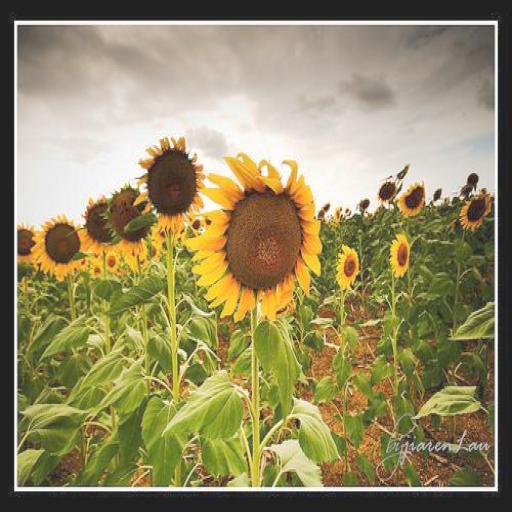sunflower: (188, 151, 322, 323), (136, 136, 205, 234), (32, 212, 83, 280), (458, 190, 492, 226), (336, 244, 359, 289), (397, 181, 427, 213), (388, 234, 409, 277)
